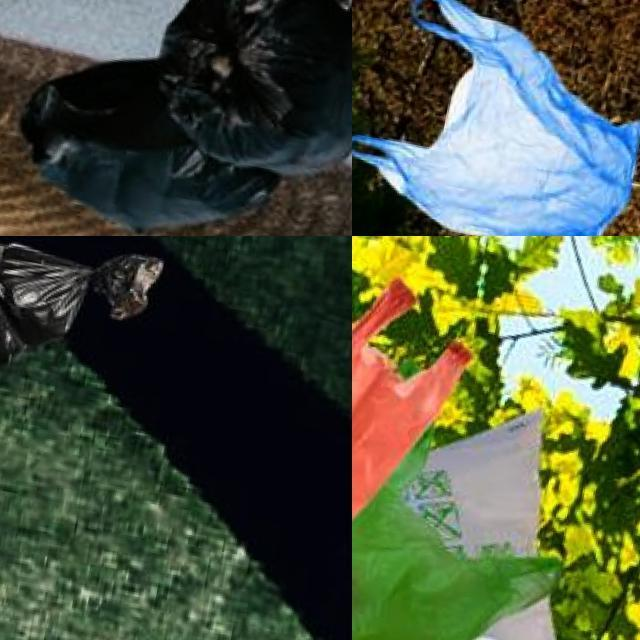waste: (352, 392, 635, 640), (352, 0, 640, 236), (352, 386, 577, 640), (32, 41, 300, 236), (352, 257, 475, 584), (150, 0, 352, 185), (0, 236, 163, 417)
